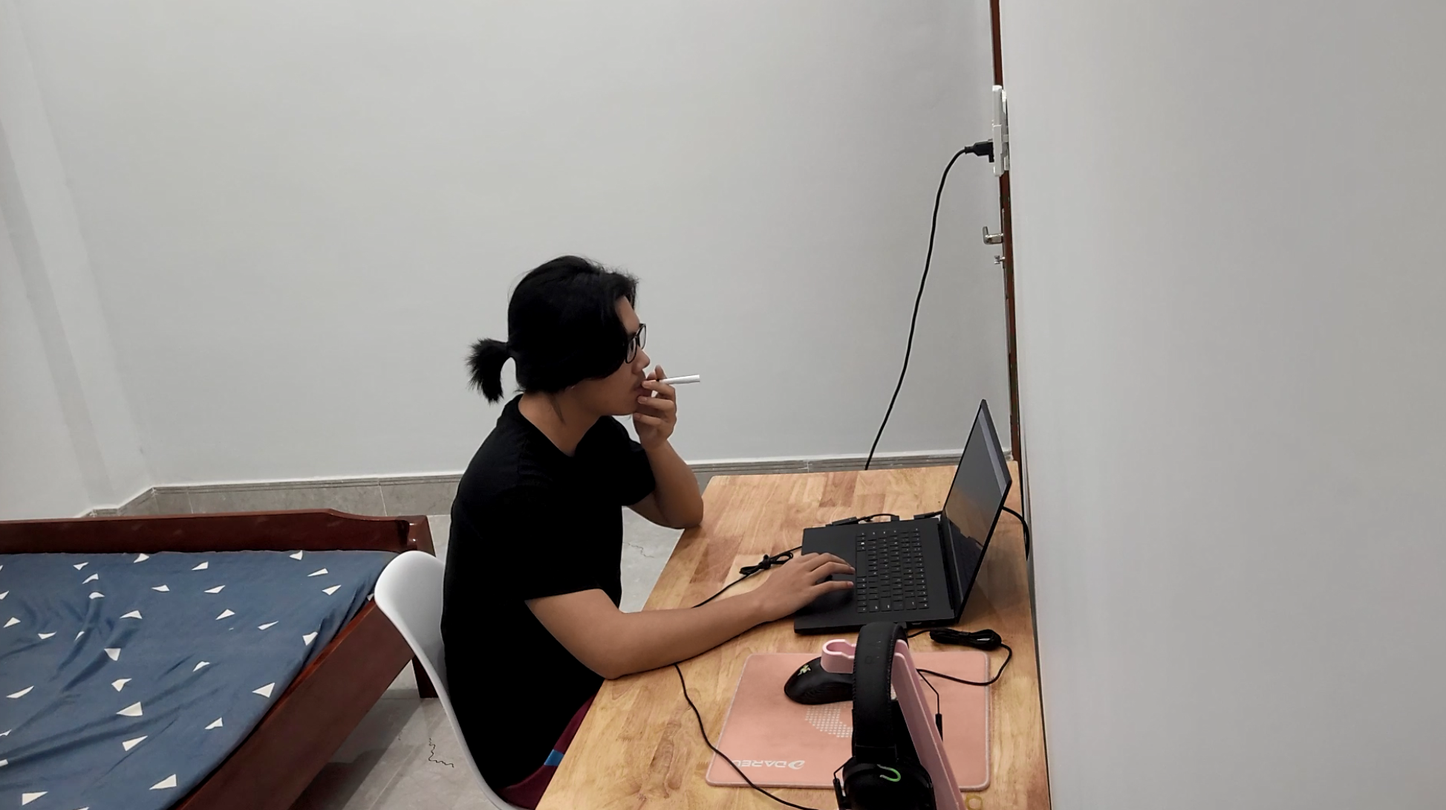cigarette: (643, 375, 703, 387)
person: (431, 241, 712, 810)
